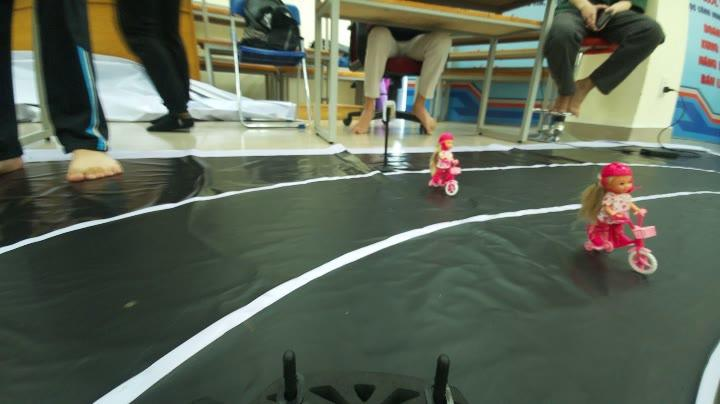pedestrian: (574, 162, 657, 280), (419, 133, 474, 200)
